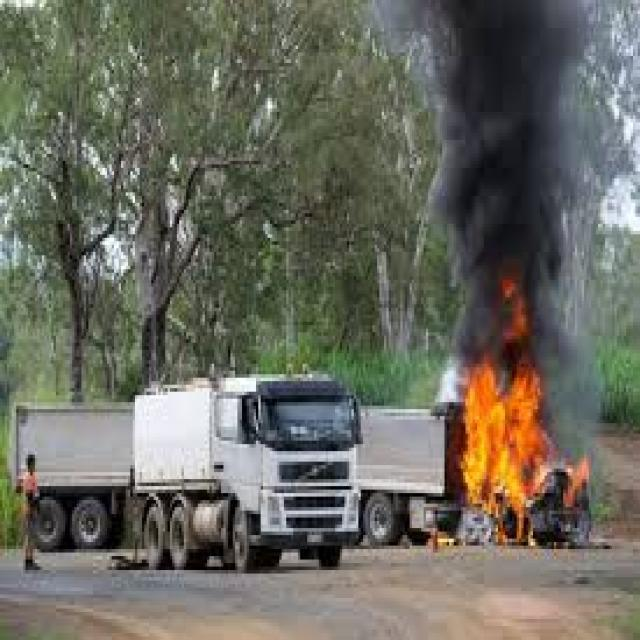Fire: (462, 342, 586, 540)
Smoke: (420, 1, 584, 344)
